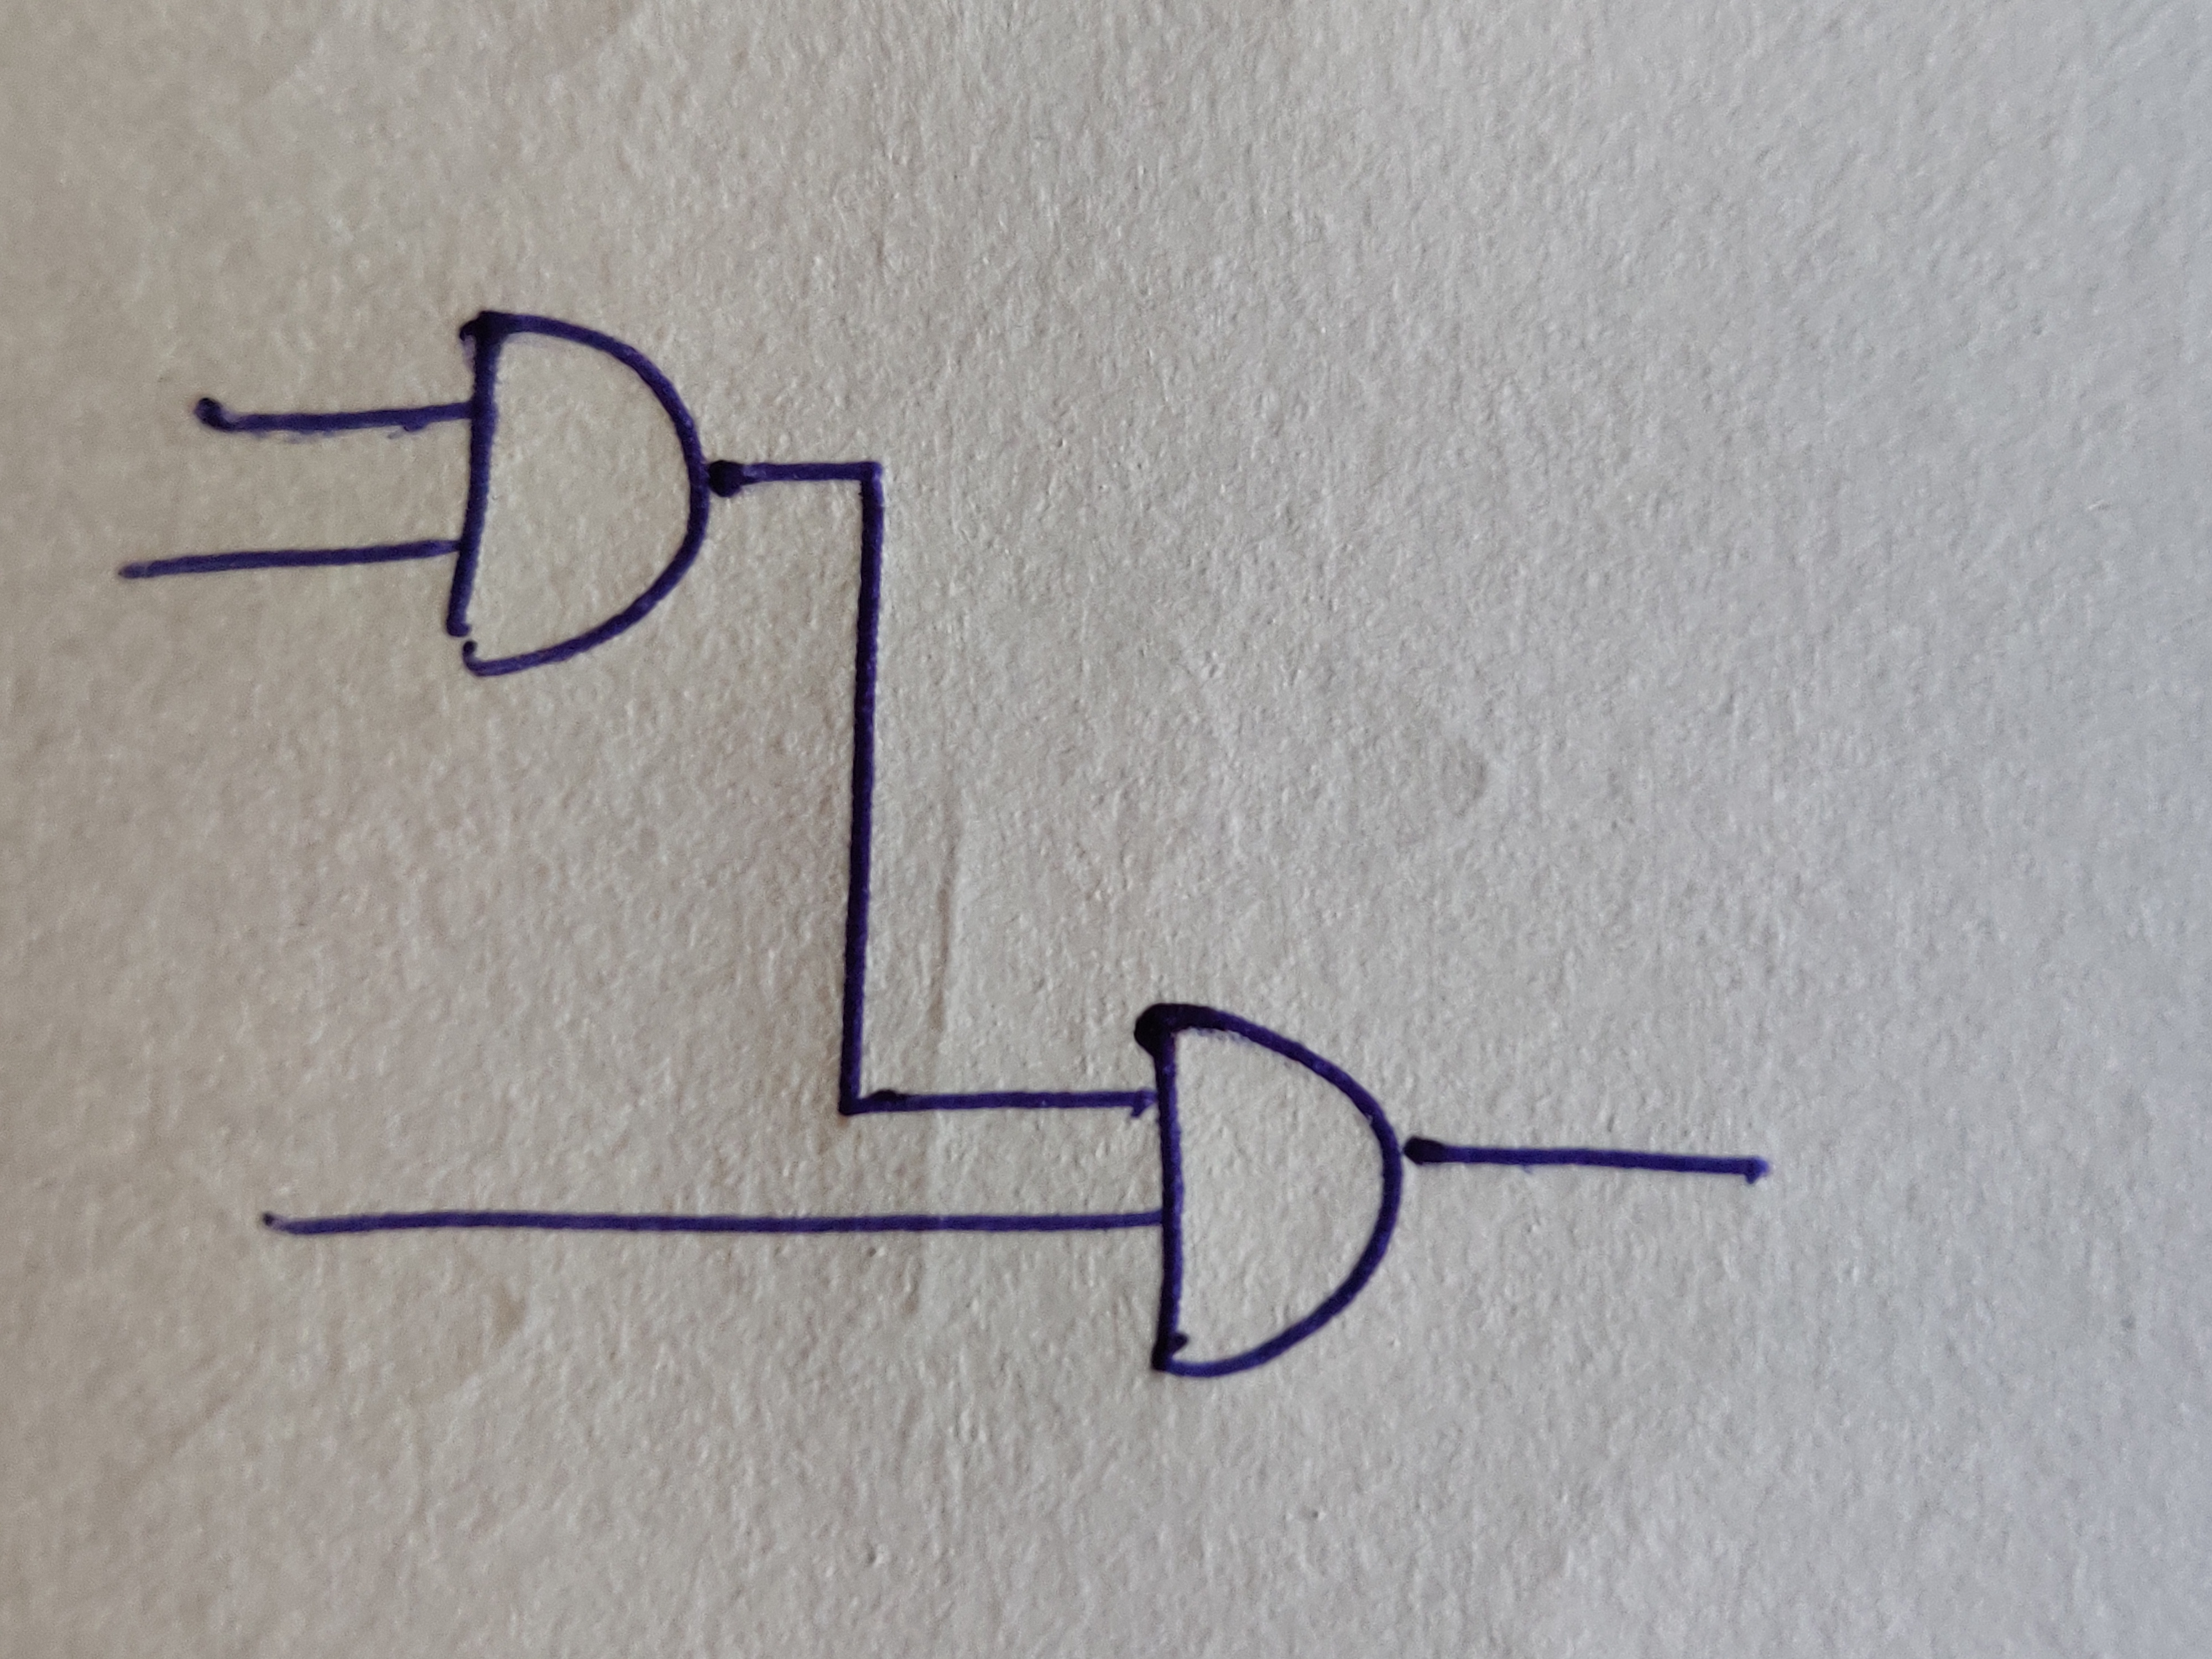and: (1132, 1000, 1402, 1378), (446, 312, 709, 680)
